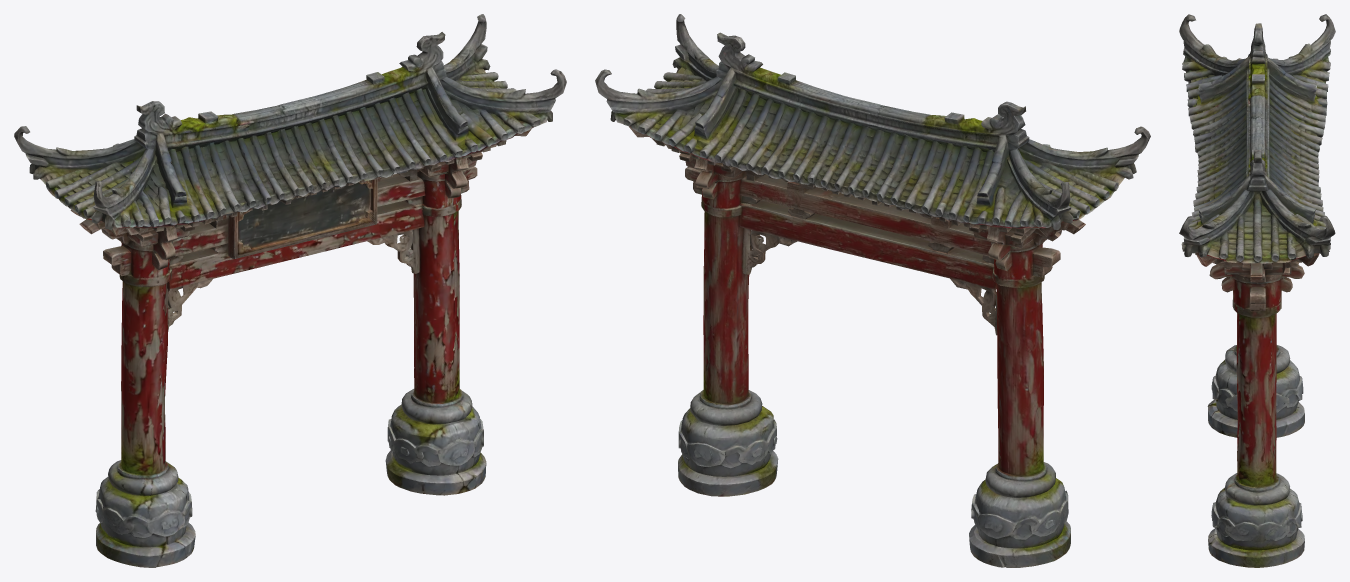
Rendered from gate.glb.
The picture shows the model from 3 angles, left to right: view 1: azimuth 30°, elevation 25°; view 2: azimuth 150°, elevation 25°; view 3: azimuth 270°, elevation 25°; orthographic projection. The views are drawn at different scales.
Parts seen in each view (by area): view 1: model; view 2: model; view 3: model.
Part boxes in pixels (x1,y1,x2,y2): model: (14, 14, 566, 567); model: (595, 14, 1150, 567); model: (1179, 14, 1335, 567).
Bounding box in the file's own units: 1.9 × 1.7 × 0.6088.
Materials: 1 (1 with a texture image).
